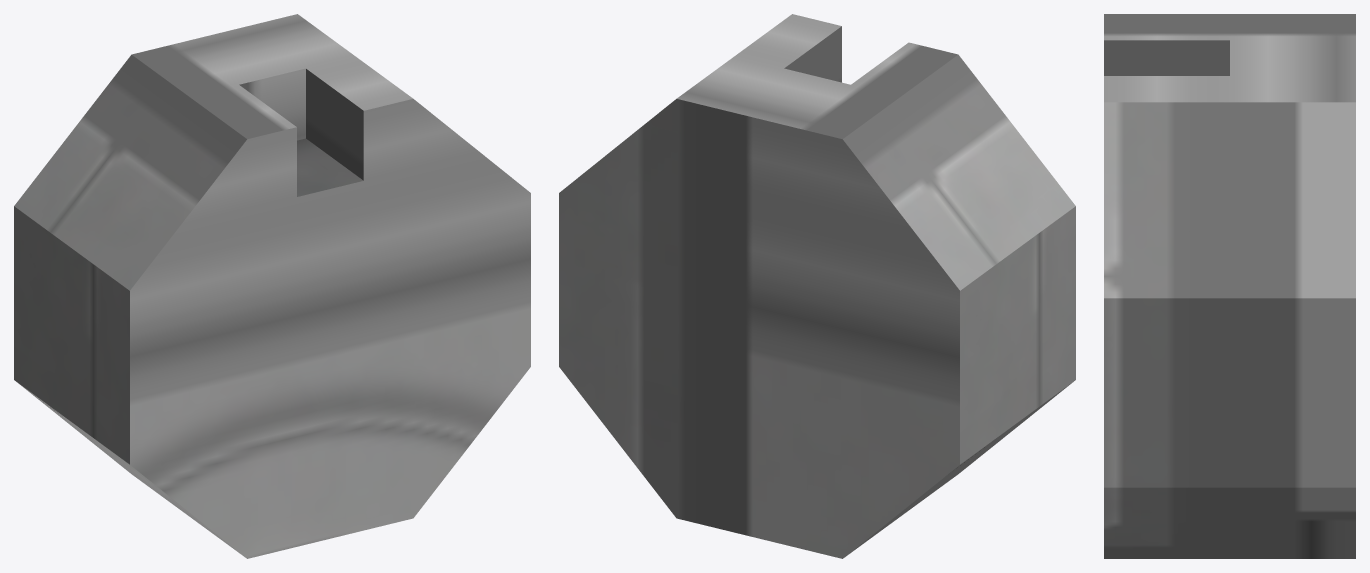
File: Eridani_Antenna_4.obj
3 views of the same model, side by side, from view 1: azimuth 30°, elevation 25°; view 2: azimuth 150°, elevation 25°; view 3: azimuth 270°, elevation 25° (orthographic). The views are drawn at different scales.
Visible parts, largest first — view 1: Eridani_Antenna_4; view 2: Eridani_Antenna_4; view 3: Eridani_Antenna_4.
Boxes of the visible parts, x1=… form: Eridani_Antenna_4: x1=14, y1=14, x2=530, y2=558; Eridani_Antenna_4: x1=559, y1=14, x2=1075, y2=558; Eridani_Antenna_4: x1=1104, y1=14, x2=1355, y2=558.
Bounding box in the file's own units: 0.6 × 0.6 × 0.3.
